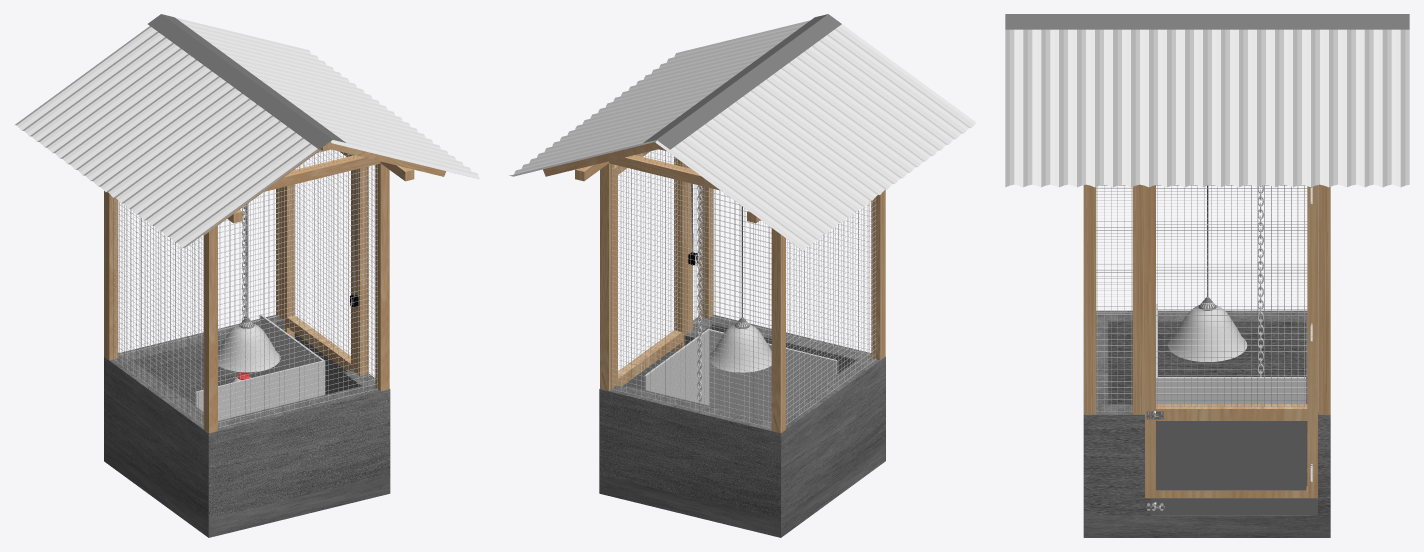
The model's file is 1x1 Broiler.glb.
3 views of the same model, side by side, from view 1: azimuth 30°, elevation 25°; view 2: azimuth 150°, elevation 25°; view 3: azimuth 270°, elevation 25° (orthographic). The views are drawn at different scales.
Parts seen in each view (by area): view 1: Concrete Slab 0.1m Thick x 0.25m Wall Height, 3ft × 9ft_0.4mm divide into 3- Back, 3ft × 9ft_0.4mm divide into 3- Front, Mesh Wire Vertical 0.025x0.025x0.0016m, Mesh Wire Horizontal 0.025x0.025x0.0016m, Mesh Wire Vertical 0.025x0.025x0.0016m.Back, Ridge Roll, .70m long; .01 thick, Post Front Left, Mesh Wire Vertical 0.025x0.025x0.0016m.Door, Mesh Wire Vertical 0.025x0.025x0.0016m.Right, Mesh Wire Horizontal 0.025x0.025x0.0016m.Back (+14 smaller); view 2: Concrete Slab 0.1m Thick x 0.25m Wall Height, 3ft × 9ft_0.4mm divide into 3- Back, 3ft × 9ft_0.4mm divide into 3- Front, Mesh Wire Vertical 0.025x0.025x0.0016m.Right, Mesh Wire Horizontal 0.025x0.025x0.0016m.Right, Mesh Wire Vertical 0.025x0.025x0.0016m.Back, .70m long; .01 thick, Ridge Roll, Mesh Wire Vertical 0.025x0.025x0.0016m.Door, Door Frame, Post Front Right, Mesh Wire Vertical 0.025x0.025x0.0016m (+13 smaller); view 3: 3ft × 9ft_0.4mm divide into 3- Front, Concrete Slab 0.1m Thick x 0.25m Wall Height, Door Silver, Door Frame, Ridge Roll, Mesh Wire Horizontal 0.025x0.025x0.0016m.Door, Mesh Wire Vertical 0.025x0.025x0.0016m.Door, .70m long; .01 thick.001, Mesh Wire Horizontal 0.025x0.025x0.0016m.Back, Frame, Refractor, Post Front Middle (+6 smaller).
Part boxes in pixels (box(x1,y1,x2,y2)): Concrete Slab 0.1m Thick x 0.25m Wall Height: box(104, 315, 390, 537); 3ft × 9ft_0.4mm divide into 3- Back: box(14, 26, 327, 248); 3ft × 9ft_0.4mm divide into 3- Front: box(175, 17, 479, 179); Mesh Wire Vertical 0.025x0.025x0.0016m: box(220, 150, 377, 427); Mesh Wire Horizontal 0.025x0.025x0.0016m: box(218, 151, 377, 427); Mesh Wire Vertical 0.025x0.025x0.0016m.Back: box(113, 198, 201, 423); Ridge Roll: box(148, 14, 345, 149); .70m long; .01 thick: box(195, 360, 325, 420); Post Front Left: box(375, 163, 389, 391); Mesh Wire Vertical 0.025x0.025x0.0016m.Door: box(292, 150, 348, 357); Mesh Wire Vertical 0.025x0.025x0.0016m.Right: box(121, 188, 278, 354); Mesh Wire Horizontal 0.025x0.025x0.0016m.Back: box(113, 200, 203, 424); Concrete Slab 0.1m Thick x 0.25m Wall Height: box(599, 315, 885, 537); 3ft × 9ft_0.4mm divide into 3- Back: box(655, 24, 976, 250); 3ft × 9ft_0.4mm divide into 3- Front: box(509, 20, 809, 176); Mesh Wire Vertical 0.025x0.025x0.0016m.Right: box(611, 150, 768, 427); Mesh Wire Horizontal 0.025x0.025x0.0016m.Right: box(611, 151, 771, 427); Mesh Wire Vertical 0.025x0.025x0.0016m.Back: box(787, 197, 875, 423); .70m long; .01 thick: box(708, 329, 837, 420); Ridge Roll: box(643, 14, 841, 149); Mesh Wire Vertical 0.025x0.025x0.0016m.Door: box(620, 150, 677, 372); Door Frame: box(616, 151, 684, 385); Post Front Right: box(600, 163, 614, 391); Mesh Wire Vertical 0.025x0.025x0.0016m: box(711, 188, 868, 354); 3ft × 9ft_0.4mm divide into 3- Front: box(1005, 29, 1409, 187); Concrete Slab 0.1m Thick x 0.25m Wall Height: box(1083, 310, 1330, 537); Door Silver: box(1156, 421, 1306, 490); Door Frame: box(1151, 185, 1311, 497); Ridge Roll: box(1005, 14, 1409, 29); Mesh Wire Horizontal 0.025x0.025x0.0016m.Door: box(1156, 188, 1307, 406); Mesh Wire Vertical 0.025x0.025x0.0016m.Door: box(1157, 185, 1304, 406); .70m long; .01 thick.001: box(1156, 377, 1305, 404); Mesh Wire Horizontal 0.025x0.025x0.0016m.Back: box(1096, 185, 1307, 312); Frame: box(1145, 185, 1317, 498); Refractor: box(1168, 302, 1247, 361); Post Front Middle: box(1132, 184, 1144, 414).
Size of the model in its own units: 1.63 by 2.11 by 1.64.
27 materials, 9 textured.
